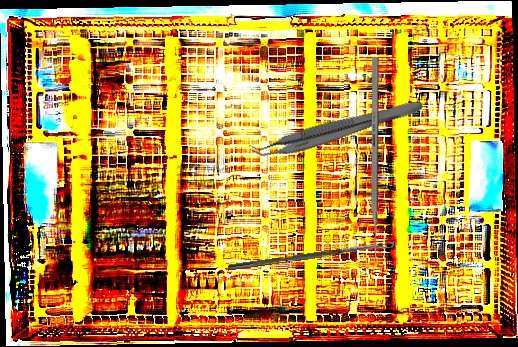Pusher: (371, 57, 379, 265)
Surgical Spoon: (227, 241, 395, 272)
Tissue Forceps: (248, 89, 425, 167)
